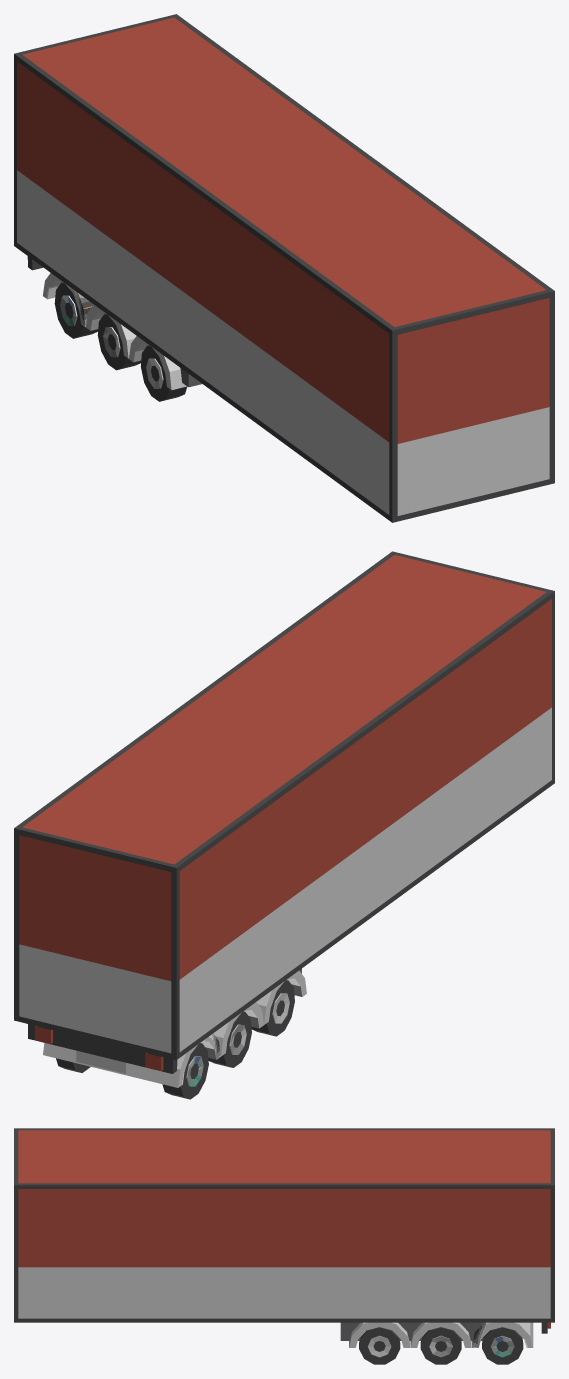
File: transport_truck_011.glb
3 renders of one model, top to bottom at view 1: azimuth 30°, elevation 25°; view 2: azimuth 150°, elevation 25°; view 3: azimuth 270°, elevation 25°, orthographic. The views are drawn at different scales.
Parts seen in each view (by area): view 1: transport_truck_011; view 2: transport_truck_011; view 3: transport_truck_011.
Part boxes in pixels (bbox=[...]): transport_truck_011: bbox=[14, 14, 554, 522]; transport_truck_011: bbox=[14, 551, 554, 1099]; transport_truck_011: bbox=[14, 1128, 554, 1364].
Size of the model in its own units: 2.13 by 3.25 by 8.59.
Materials: 1 (1 with a texture image).
